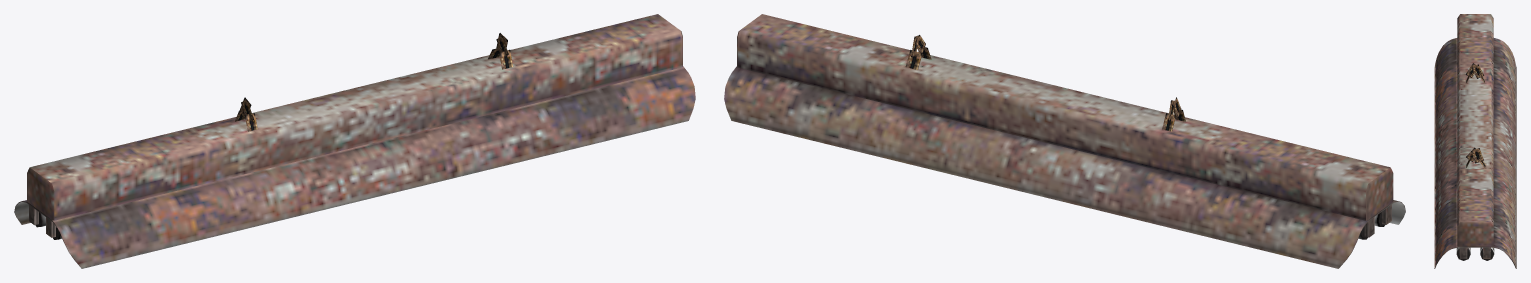
The model's file is luztecho.obj.
The picture shows the model from 3 angles, left to right: view 1: azimuth 30°, elevation 25°; view 2: azimuth 150°, elevation 25°; view 3: azimuth 270°, elevation 25°; orthographic projection. The views are drawn at different scales.
Visible parts, largest first — view 1: LODGroup_1_MainMesh_1_Submesh_3; view 2: LODGroup_1_MainMesh_1_Submesh_3; view 3: LODGroup_1_MainMesh_1_Submesh_3, LODGroup_1_MainMesh_2_Submesh_2.
Boxes of the visible parts, left/top/right/bottom form: LODGroup_1_MainMesh_1_Submesh_3: left=14, top=14, right=695, bottom=268; LODGroup_1_MainMesh_1_Submesh_3: left=724, top=14, right=1405, bottom=268; LODGroup_1_MainMesh_1_Submesh_3: left=1434, top=14, right=1516, bottom=268; LODGroup_1_MainMesh_2_Submesh_2: left=1456, top=247, right=1494, bottom=260.
Size of the model in its own units: 89.37 by 13.8 by 14.83.
Materials: 2 (2 with a texture image).
